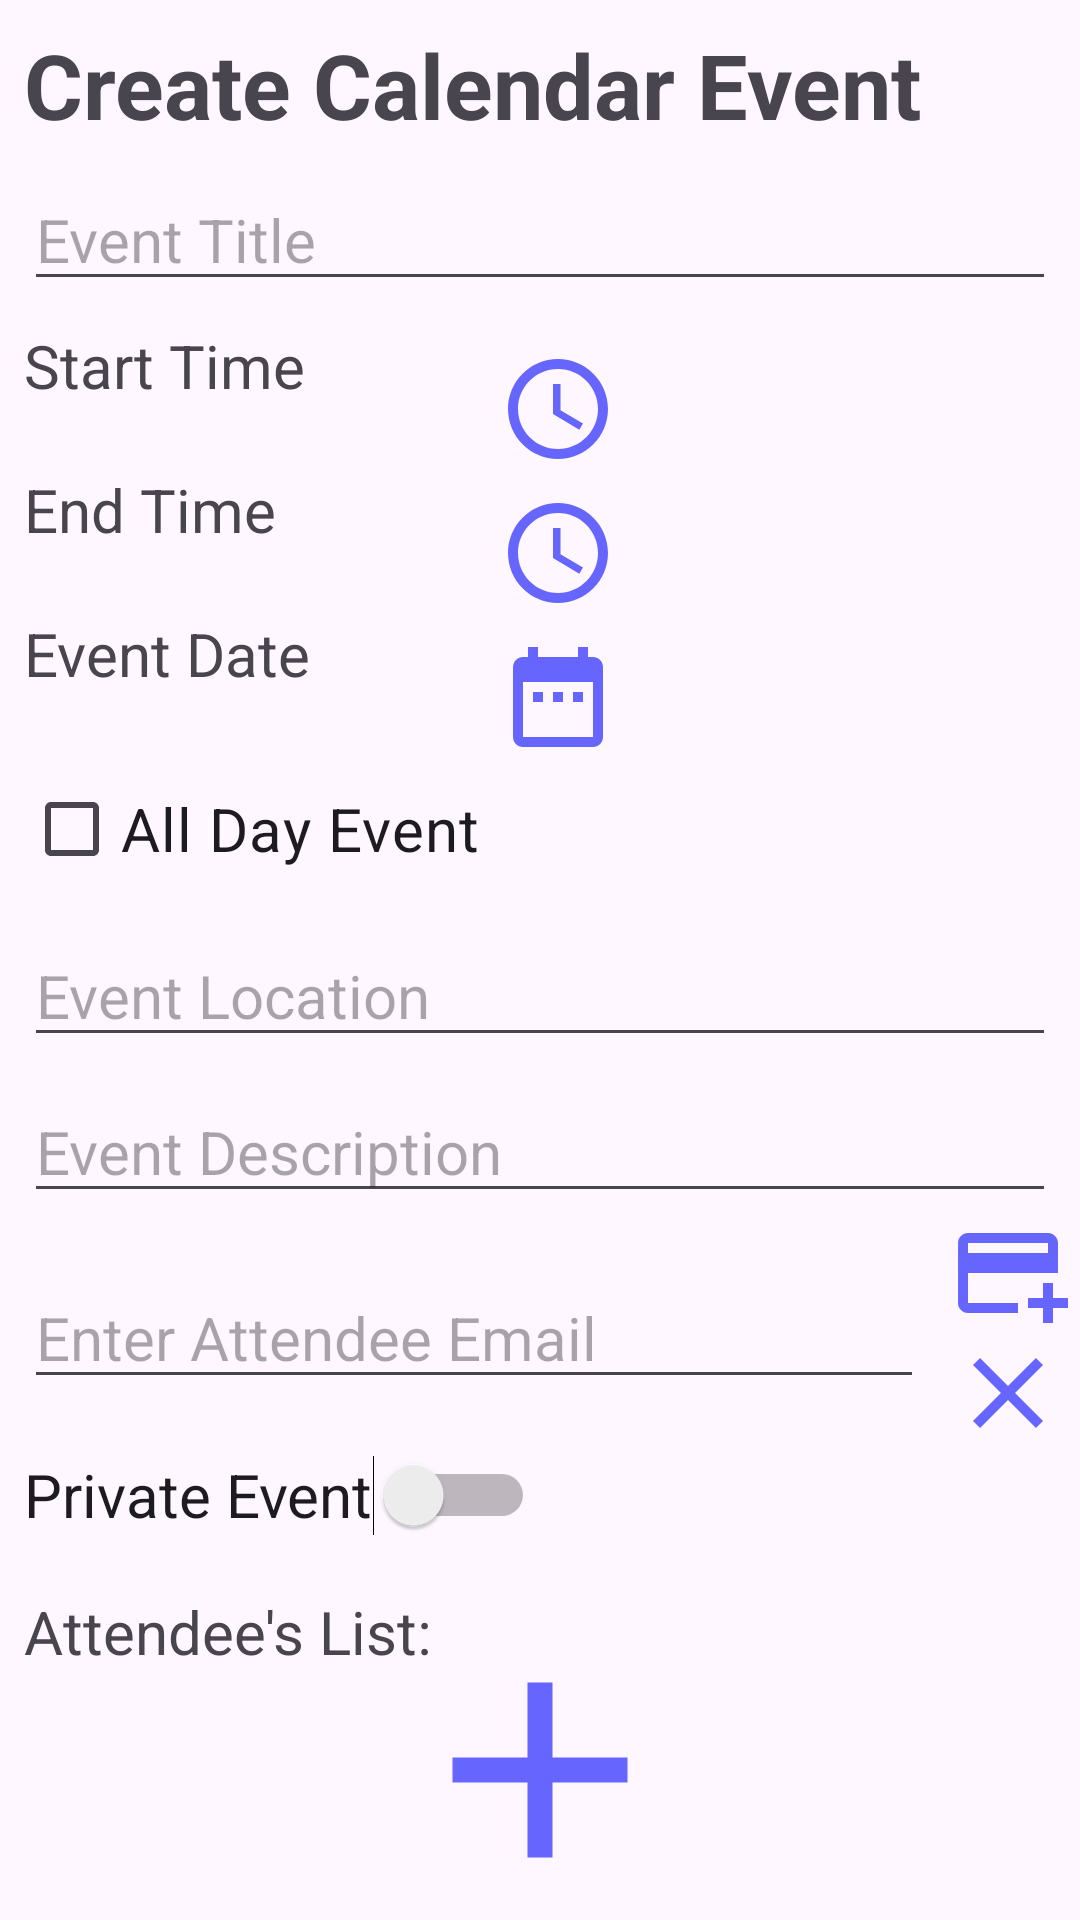

Named icons in this screenshot (1080w x 1920h) and their bounding boxes, (x1, y1, x2, y2):
Add Email to Email List: (958, 1233, 1068, 1323)
Add Event: (397, 1620, 628, 1858)
Remove Email From Email List: (973, 1358, 1043, 1428)
